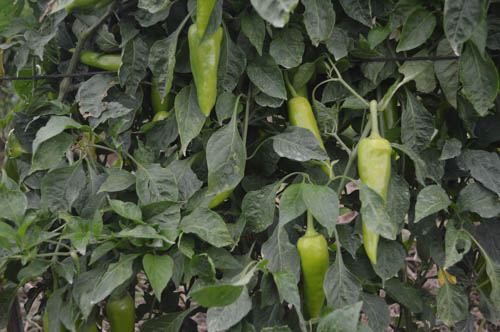ChiliPepper: (356, 136, 390, 267), (185, 23, 224, 121), (286, 94, 332, 170), (293, 235, 333, 322), (102, 300, 140, 330), (78, 50, 123, 74), (145, 74, 171, 112)
